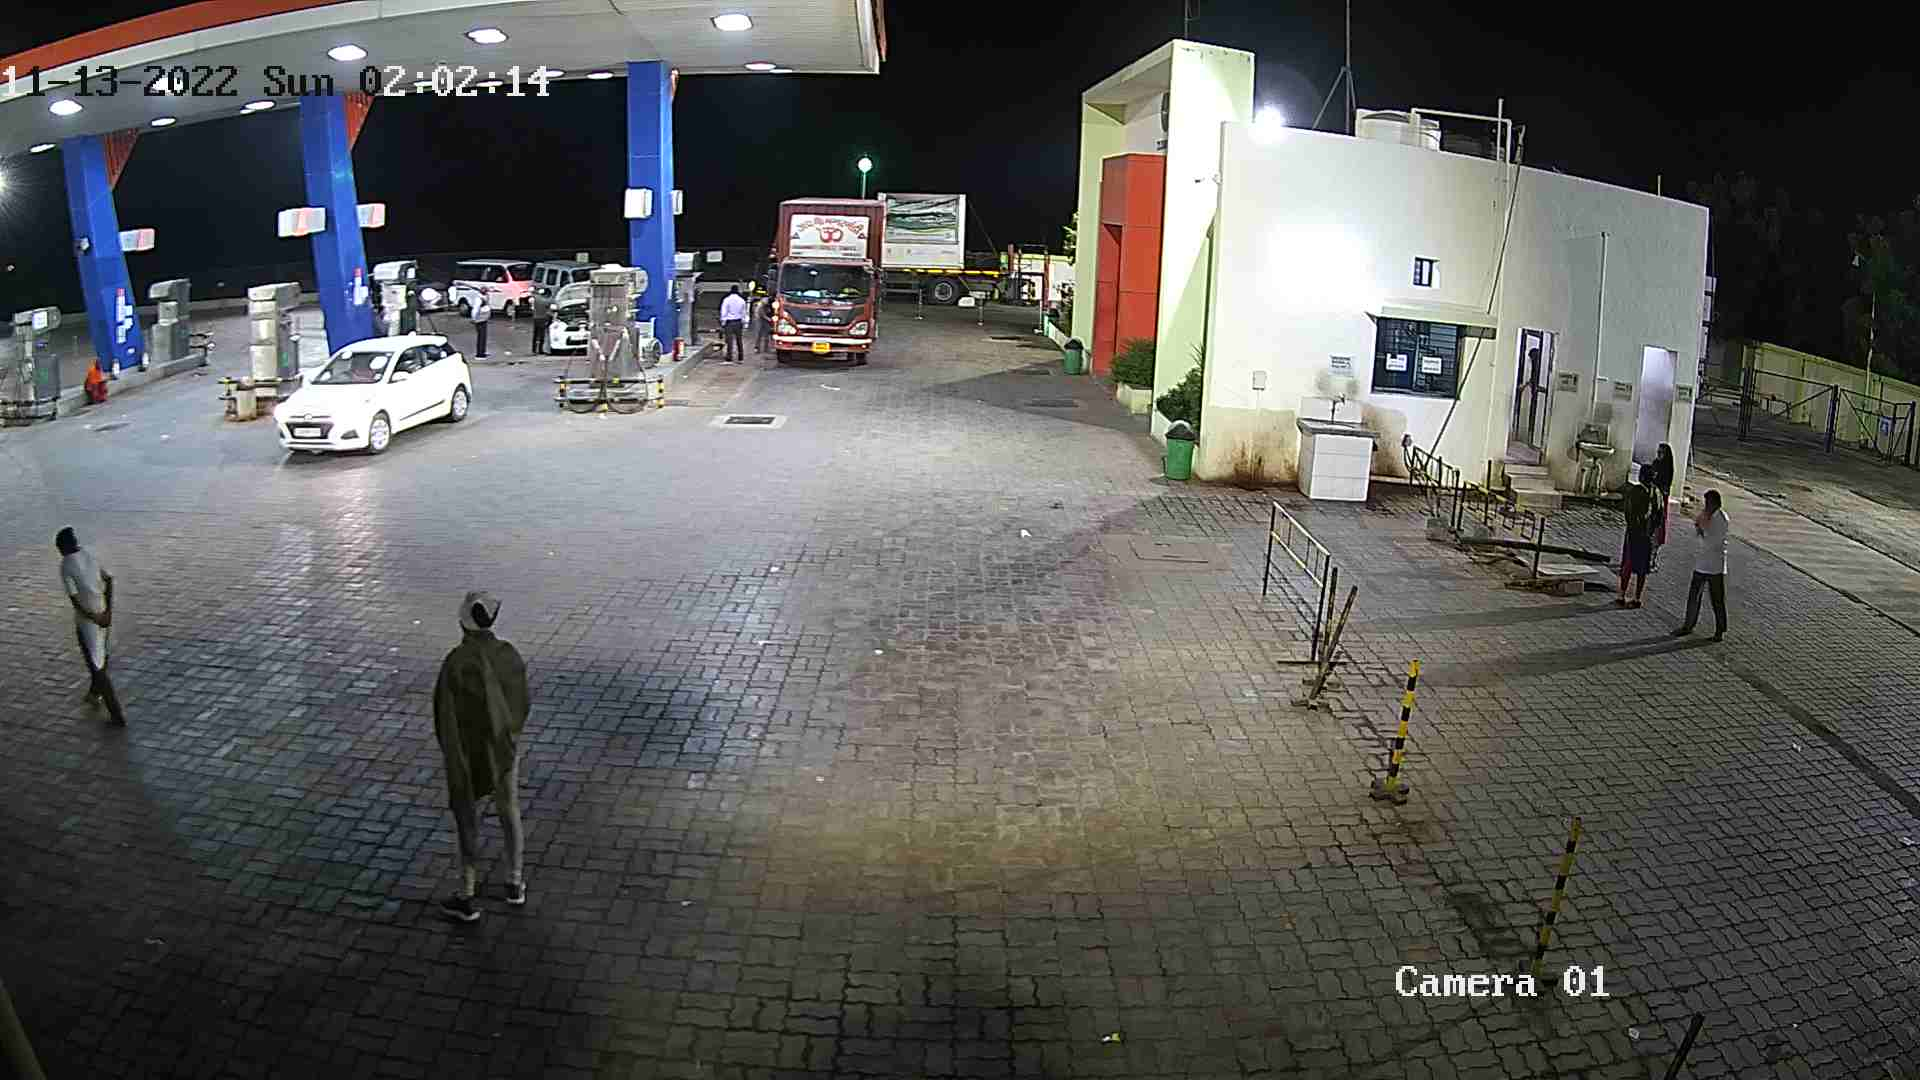Car: (266, 328, 477, 462), (440, 253, 541, 320), (522, 253, 605, 320), (541, 273, 599, 363)
HMV: (746, 186, 891, 377), (868, 186, 1048, 309)
